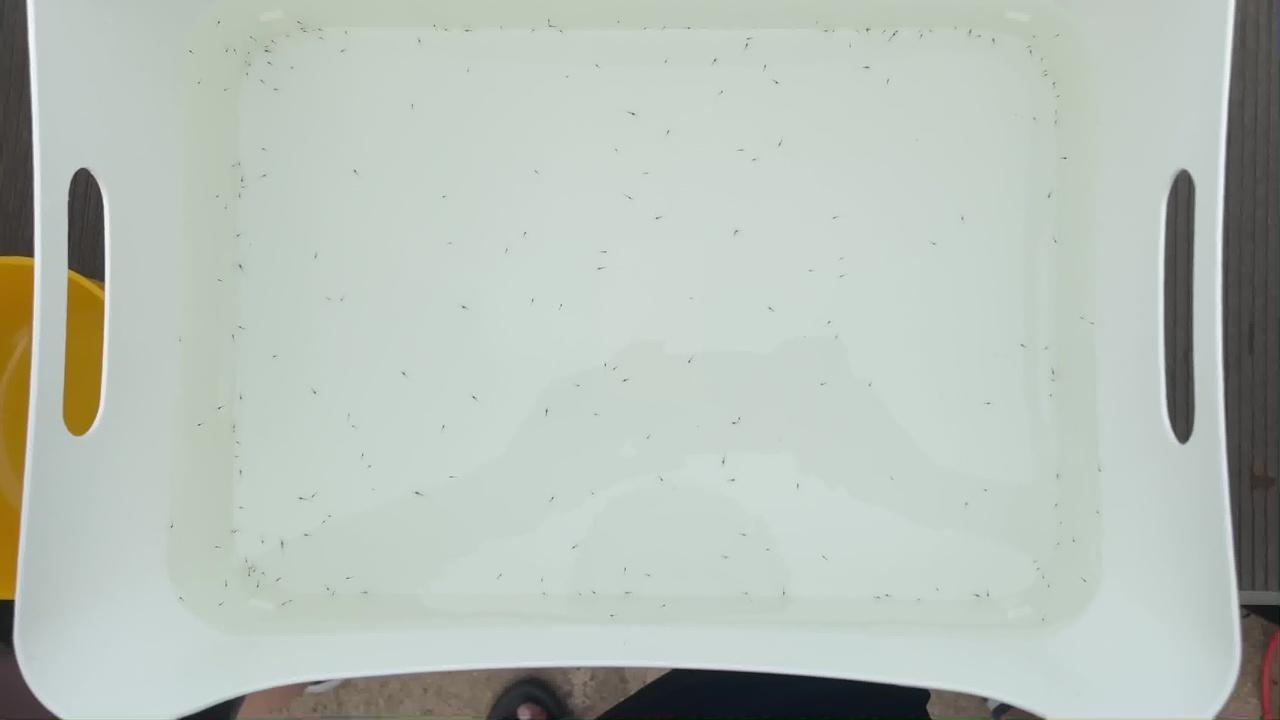shrimp: (957, 217, 969, 225), (927, 241, 939, 249), (1050, 237, 1062, 245), (1042, 193, 1054, 201), (1057, 155, 1069, 163), (1028, 117, 1040, 125), (1051, 120, 1063, 128), (1052, 110, 1064, 118), (1052, 93, 1064, 101), (1048, 82, 1060, 90), (1040, 72, 1052, 80), (1039, 70, 1051, 78), (1037, 58, 1049, 66), (1051, 32, 1063, 40), (1029, 35, 1041, 43), (1022, 44, 1034, 52), (1024, 47, 1036, 55), (988, 39, 1000, 47), (974, 34, 986, 42), (965, 29, 977, 37), (953, 25, 965, 33), (927, 28, 939, 36), (917, 34, 929, 42), (916, 28, 928, 36), (891, 28, 903, 36), (888, 30, 900, 38), (884, 35, 896, 43), (879, 28, 891, 36), (862, 27, 874, 35), (854, 27, 866, 35), (843, 43, 855, 51), (826, 27, 838, 35), (818, 27, 830, 35), (812, 19, 824, 27), (861, 64, 873, 72), (881, 77, 893, 85), (772, 80, 784, 88), (758, 63, 770, 71), (742, 42, 754, 50), (743, 38, 755, 46), (710, 58, 722, 66), (717, 88, 729, 96), (660, 58, 672, 66), (683, 26, 695, 34), (658, 23, 670, 31), (640, 25, 652, 33), (613, 19, 625, 27), (591, 62, 603, 70), (563, 74, 575, 82), (554, 27, 566, 35), (544, 24, 556, 32), (544, 20, 556, 28), (529, 28, 541, 36), (626, 110, 638, 118), (662, 129, 674, 137), (735, 148, 747, 156), (747, 156, 759, 164), (773, 140, 785, 148), (829, 215, 841, 223), (835, 257, 847, 265), (837, 272, 849, 280), (805, 267, 817, 275), (729, 230, 741, 238), (762, 305, 774, 313), (653, 217, 665, 225), (623, 194, 635, 202), (639, 171, 651, 179), (609, 149, 621, 157), (824, 320, 836, 328), (830, 333, 842, 341), (817, 380, 829, 388), (864, 382, 876, 390), (980, 402, 992, 410), (1046, 393, 1058, 401), (1046, 377, 1058, 385), (1046, 369, 1058, 377), (1040, 346, 1052, 354), (1017, 342, 1029, 350), (1076, 315, 1088, 323), (1084, 319, 1096, 327), (1096, 467, 1108, 475), (1052, 474, 1064, 482), (1051, 500, 1063, 508), (1055, 518, 1067, 526), (1052, 540, 1064, 548), (1067, 538, 1079, 546), (1093, 509, 1105, 517), (1078, 577, 1090, 585), (1043, 584, 1055, 592), (1037, 575, 1049, 583), (1032, 568, 1044, 576), (1030, 558, 1042, 566), (980, 488, 992, 496), (961, 502, 973, 510), (1038, 618, 1050, 626), (981, 591, 993, 599), (974, 593, 986, 601), (932, 589, 944, 597), (915, 598, 927, 606), (882, 592, 894, 600), (873, 596, 885, 604), (818, 554, 830, 562), (886, 476, 898, 484), (791, 482, 803, 490), (778, 591, 790, 599), (746, 596, 758, 604), (738, 589, 750, 597), (720, 554, 732, 562), (738, 533, 750, 541), (761, 549, 773, 557), (727, 478, 739, 486), (718, 459, 730, 467), (731, 421, 743, 429), (732, 417, 744, 425), (684, 358, 696, 366), (684, 297, 696, 305), (594, 267, 606, 275), (599, 251, 611, 259), (554, 302, 566, 310), (526, 297, 538, 305), (500, 250, 512, 258), (518, 231, 530, 239), (532, 171, 544, 179), (494, 25, 506, 33), (461, 28, 473, 36), (461, 67, 473, 75), (439, 29, 451, 37), (427, 22, 439, 30), (413, 37, 425, 45), (407, 104, 419, 112), (338, 49, 350, 57), (340, 30, 352, 38), (315, 37, 327, 45), (313, 26, 325, 34), (305, 26, 317, 34), (296, 27, 308, 35), (293, 20, 305, 28), (284, 34, 296, 42), (267, 39, 279, 47), (262, 41, 274, 49), (262, 47, 274, 55), (252, 36, 264, 44), (246, 35, 258, 43), (211, 21, 223, 29), (183, 50, 195, 58), (194, 78, 206, 86), (219, 87, 231, 95), (220, 47, 232, 55), (227, 47, 239, 55), (243, 50, 255, 58), (240, 58, 252, 66), (243, 61, 255, 69), (240, 68, 252, 76), (257, 76, 269, 84), (263, 61, 275, 69), (287, 67, 299, 75), (270, 85, 282, 93), (349, 167, 361, 175), (437, 195, 449, 203), (259, 147, 271, 155), (260, 172, 272, 180), (237, 173, 249, 181), (239, 181, 251, 189), (233, 190, 245, 198), (234, 162, 246, 170), (227, 163, 239, 171), (213, 194, 225, 202), (221, 203, 233, 211), (231, 231, 243, 239), (235, 260, 247, 268), (216, 278, 228, 286), (173, 337, 185, 345), (226, 334, 238, 342), (235, 325, 247, 333), (310, 254, 322, 262), (322, 297, 334, 305), (333, 295, 345, 303), (445, 239, 457, 247), (458, 304, 470, 312), (600, 363, 612, 371), (607, 368, 619, 376), (619, 379, 631, 387), (590, 412, 602, 420), (572, 384, 584, 392), (540, 410, 552, 418), (642, 434, 654, 442), (656, 477, 668, 485), (587, 491, 599, 499), (545, 497, 557, 505), (569, 546, 581, 554), (621, 567, 633, 575), (641, 574, 653, 582), (659, 603, 671, 611), (621, 591, 633, 599), (607, 613, 619, 621), (588, 590, 600, 598), (574, 592, 586, 600), (537, 590, 549, 598), (537, 578, 549, 586), (492, 574, 504, 582), (412, 490, 424, 498), (447, 474, 459, 482), (435, 423, 447, 431), (468, 396, 480, 404), (396, 372, 408, 380), (309, 389, 321, 397), (268, 353, 280, 361), (235, 397, 247, 405), (214, 406, 226, 414), (193, 422, 205, 430), (229, 424, 241, 432), (229, 429, 241, 437), (232, 440, 244, 448), (232, 454, 244, 462), (235, 471, 247, 479), (236, 505, 248, 513), (229, 528, 241, 536), (211, 543, 223, 551), (166, 525, 178, 533), (176, 595, 188, 603), (216, 602, 228, 610), (220, 583, 232, 591), (277, 601, 289, 609), (283, 599, 295, 607), (274, 578, 286, 586), (252, 587, 264, 595), (259, 574, 271, 582), (249, 569, 261, 577), (244, 572, 256, 580), (244, 566, 256, 574), (241, 560, 253, 568), (256, 538, 268, 546), (277, 541, 289, 549), (300, 533, 312, 541), (318, 518, 330, 526), (324, 514, 336, 522), (296, 496, 308, 504), (306, 493, 318, 501), (342, 414, 354, 422), (348, 423, 360, 431), (355, 452, 367, 460), (363, 463, 375, 471), (368, 488, 380, 496), (343, 576, 355, 584), (359, 589, 371, 597), (327, 590, 339, 598), (321, 587, 333, 595), (911, 136, 923, 144)
